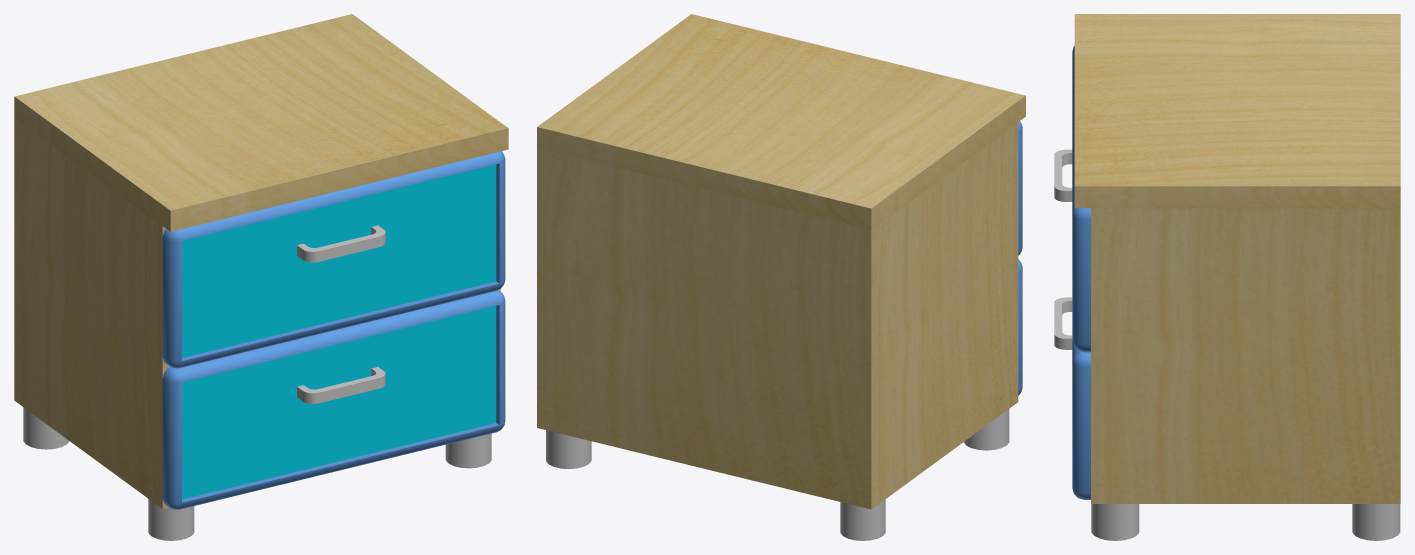
Rendered from sweethome3d-lucapresidente-blue-bedside-table-25.glb.
The picture shows the model from 3 angles, left to right: view 1: azimuth 30°, elevation 25°; view 2: azimuth 150°, elevation 25°; view 3: azimuth 270°, elevation 25°; orthographic projection. The views are drawn at different scales.
Parts seen in each view (by area): view 1: Box38_8, Box35_1, Box36_2, Box37_7, ChamferBox36_3, ChamferBox37_5, Cylinder13_9, Line63_4, Line64_6, Cylinder14_10, Cylinder16_12; view 2: Box35_1, Box38_8, Cylinder16_12, Cylinder15_11, Cylinder13_9, ChamferBox36_3, ChamferBox37_5; view 3: Box35_1, Box38_8, ChamferBox37_5, ChamferBox36_3, Cylinder14_10, Cylinder15_11, Line63_4, Line64_6.
Boxes of the visible parts, x1=… form: Box38_8: x1=14, y1=14, x2=508, y2=231; Box35_1: x1=14, y1=118, x2=500, y2=508; Box36_2: x1=182, y1=306, x2=496, y2=499; Box37_7: x1=182, y1=164, x2=496, y2=357; ChamferBox36_3: x1=162, y1=290, x2=505, y2=509; ChamferBox37_5: x1=162, y1=151, x2=505, y2=368; Cylinder13_9: x1=148, y1=499, x2=194, y2=540; Line63_4: x1=297, y1=367, x2=385, y2=403; Line64_6: x1=297, y1=225, x2=385, y2=262; Cylinder14_10: x1=445, y1=433, x2=491, y2=468; Cylinder16_12: x1=23, y1=407, x2=69, y2=449; Box35_1: x1=537, y1=122, x2=1018, y2=509; Box38_8: x1=537, y1=14, x2=1025, y2=229; Cylinder16_12: x1=840, y1=499, x2=885, y2=540; Cylinder15_11: x1=546, y1=430, x2=591, y2=469; Cylinder13_9: x1=963, y1=409, x2=1009, y2=450; ChamferBox36_3: x1=1018, y1=259, x2=1022, y2=395; ChamferBox37_5: x1=1018, y1=121, x2=1022, y2=255; Box35_1: x1=1091, y1=208, x2=1400, y2=503; Box38_8: x1=1074, y1=14, x2=1400, y2=208; ChamferBox37_5: x1=1072, y1=46, x2=1090, y2=352; ChamferBox36_3: x1=1072, y1=341, x2=1090, y2=499; Cylinder14_10: x1=1091, y1=504, x2=1139, y2=540; Cylinder15_11: x1=1352, y1=504, x2=1400, y2=540; Line63_4: x1=1054, y1=297, x2=1072, y2=349; Line64_6: x1=1054, y1=149, x2=1072, y2=201.
Size of the model in its own units: 50 by 48 by 42.5.
Materials: 5 (1 with a texture image).
